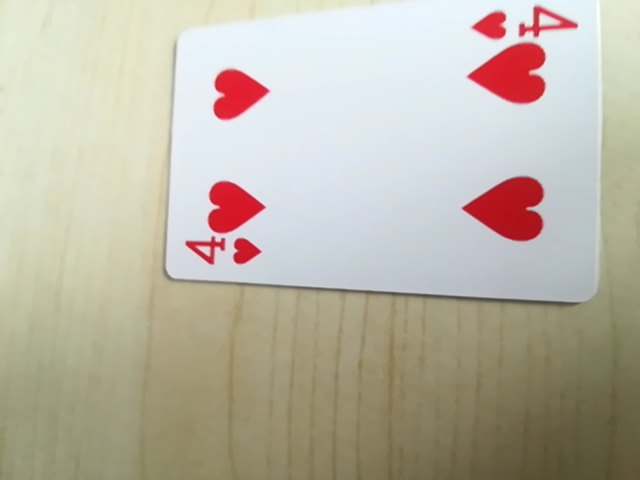hx 4: (467, 3, 582, 44), (179, 229, 267, 275)
